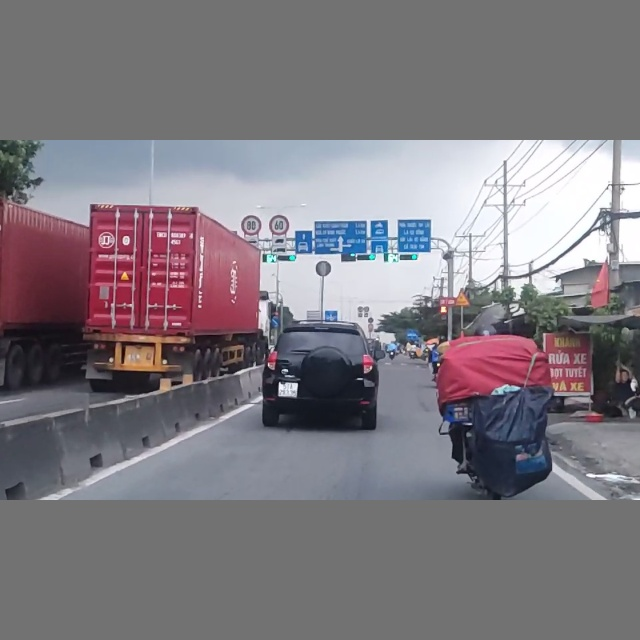P.127*60: (269, 213, 291, 235)
P.127*80: (241, 213, 263, 237)
R.302a: (271, 317, 280, 327)
W.245a: (455, 289, 471, 306)
